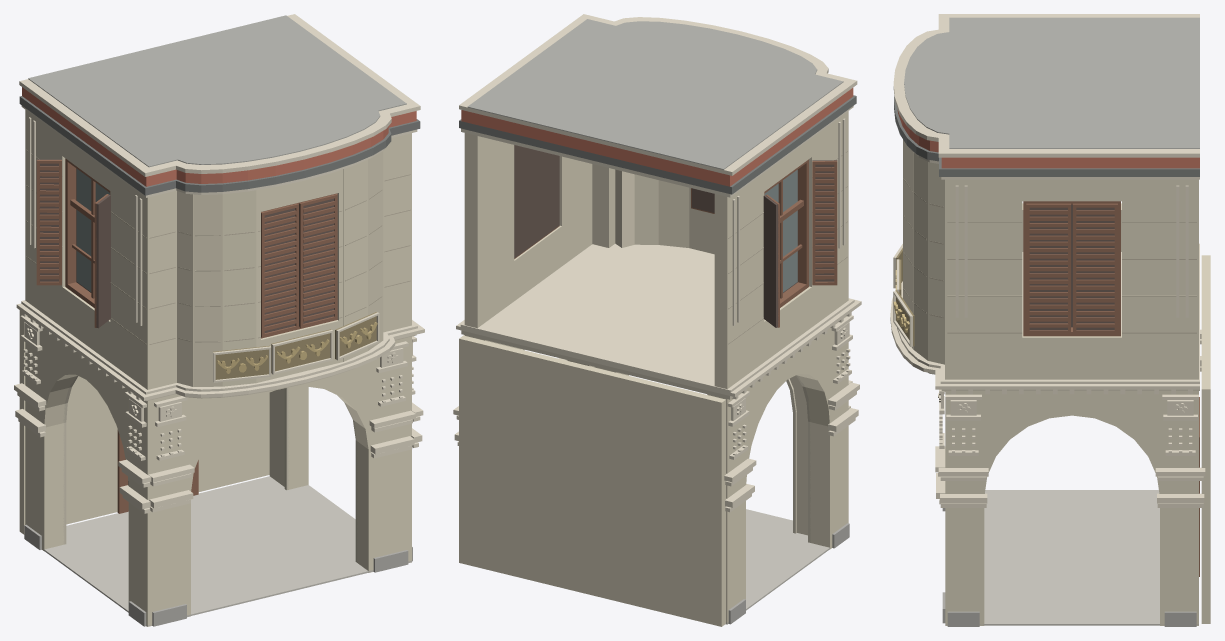
Rendered from jingan-shi-liangcai-residence-carriage-porch-lod.glb.
The picture shows the model from 3 angles, left to right: view 1: azimuth 30°, elevation 25°; view 2: azimuth 150°, elevation 25°; view 3: azimuth 270°, elevation 25°; orthographic projection. The views are drawn at different scales.
Visible parts, largest first — view 1: 史量才旧居（铜仁路257号）院内主楼圆首券拱车廊; view 2: 史量才旧居（铜仁路257号）院内主楼圆首券拱车廊; view 3: 史量才旧居（铜仁路257号）院内主楼圆首券拱车廊.
Boxes of the visible parts, box(x1,y1,x2,y2) form: 史量才旧居（铜仁路257号）院内主楼圆首券拱车廊: box(14, 14, 424, 626); 史量才旧居（铜仁路257号）院内主楼圆首券拱车廊: box(453, 14, 861, 626); 史量才旧居（铜仁路257号）院内主楼圆首券拱车廊: box(890, 14, 1210, 626).
Bounding box in the file's own units: 5.37 × 8.01 × 4.89.
